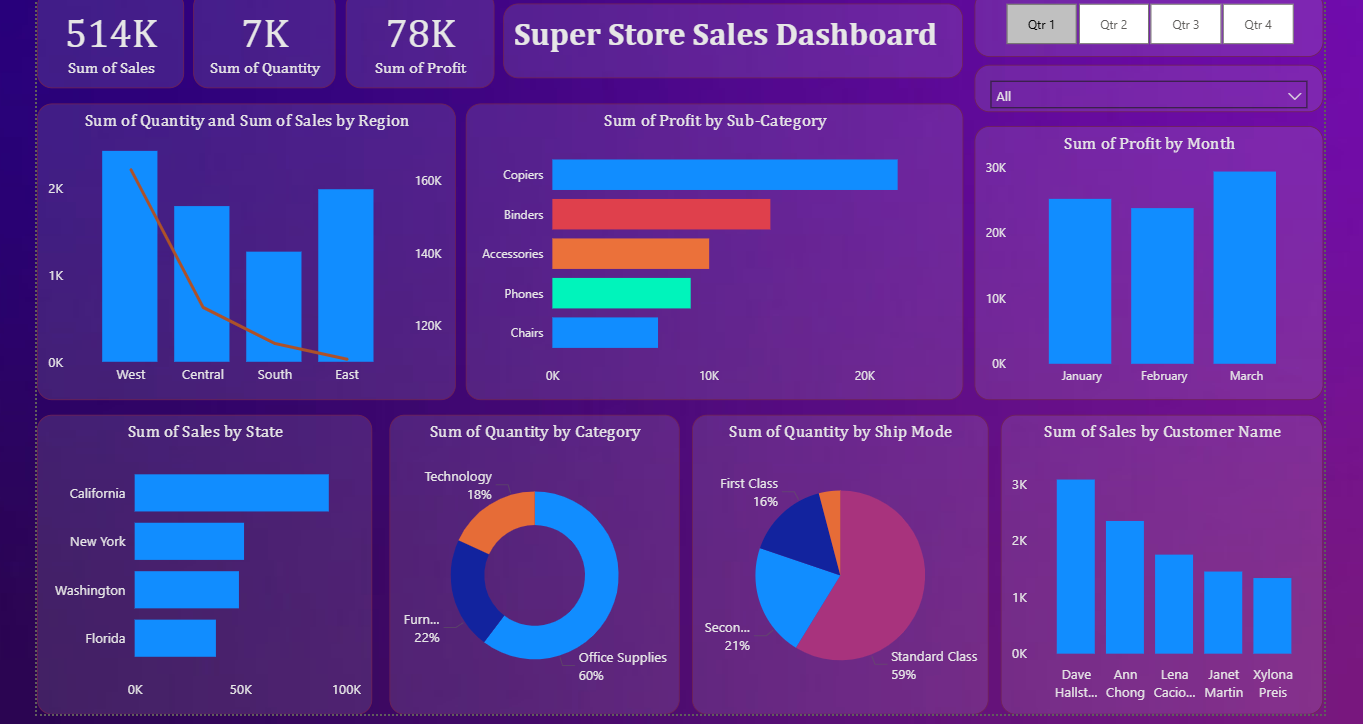

The page's visual inventory and layout, read from the dashboard file:
{"tool":"powerbi","page":{"name":"Page 2","canvas":[1280,720],"ordinal":1},"visuals":[{"type":"columnChart","fields":{"Category":["Sample - Superstore.Order Date.Variation.Date Hierarchy.Month"],"Y":["Sum(Sample - Superstore.Profit)"]},"box":[933,134.3,347.1,272.4],"z":0},{"type":"barChart","fields":{"Y":["Sum(Sample - Superstore.Profit)"],"Category":["Sample - Superstore.Sub-Category"]},"box":[426.7,112,495.1,294.8],"z":1000},{"type":"donutChart","fields":{"Y":["Sum(Sample - Superstore.Quantity)"],"Category":["Sample - Superstore.Category"]},"box":[350.8,421.7,288.6,298.6],"z":2000},{"type":"pieChart","fields":{"Y":["Sum(Sample - Superstore.Quantity)"],"Category":["Sample - Superstore.Ship Mode"]},"box":[651.8,421.7,294.8,298.6],"z":3000},{"type":"lineStackedColumnComboChart","fields":{"Category":["Sample - Superstore.Region"],"Y2":["Sum(Sample - Superstore.Sales)"],"Y":["Sum(Sample - Superstore.Quantity)"]},"box":[0,112,416.7,294.8],"z":4000},{"type":"card","fields":{"Values":["Sum(Sample - Superstore.Quantity)"]},"box":[155.5,0,141.8,97],"z":5000},{"type":"card","fields":{"Values":["Sum(Sample - Superstore.Profit)"]},"box":[307.3,0,148,97],"z":6000},{"type":"card","fields":{"Values":["Sum(Sample - Superstore.Sales)"]},"box":[0,0,146.8,97],"z":7000},{"type":"barChart","fields":{"Category":["Sample - Superstore.State"],"Y":["Sum(Sample - Superstore.Sales)"]},"box":[0,421.7,333.4,298.6],"z":8000},{"type":"columnChart","fields":{"Y":["Sum(Sample - Superstore.Sales)"],"Category":["Sample - Superstore.Customer Name"]},"box":[959.1,421.7,320.9,298.6],"z":9000},{"type":"textbox","box":[464,12.4,457.8,74.6],"z":10000},{"type":"slicer","fields":{"Values":["Sample - Superstore.Order Date.Variation.Date Hierarchy.Quarter"]},"box":[933,0,347.1,65.9],"z":11000},{"type":"slicer","fields":{"Values":["Sample - Superstore.State"]},"box":[933,73.4,347.1,47.3],"z":12000}]}

Visuals, with their boxes on the page's 1280x720 design canvas (x1, y1, x2, y2). These are canvas units, not pixel positions in the 1363x724 screenshot, which may show the page scaled, cropped or inside an application window:
columnChart - Sample - Superstore.Order Date.Variation.Date Hierarchy.Month x Sum(Sample - Superstore.Profit): [left=933, top=134, right=1280, bottom=407]
barChart - Sum(Sample - Superstore.Profit) x Sample - Superstore.Sub-Category: [left=427, top=112, right=922, bottom=407]
donutChart - Sum(Sample - Superstore.Quantity) x Sample - Superstore.Category: [left=351, top=422, right=639, bottom=720]
pieChart - Sum(Sample - Superstore.Quantity) x Sample - Superstore.Ship Mode: [left=652, top=422, right=947, bottom=720]
lineStackedColumnComboChart - Sample - Superstore.Region x Sum(Sample - Superstore.Sales): [left=0, top=112, right=417, bottom=407]
card - Sum(Sample - Superstore.Quantity): [left=156, top=0, right=297, bottom=97]
card - Sum(Sample - Superstore.Profit): [left=307, top=0, right=455, bottom=97]
card - Sum(Sample - Superstore.Sales): [left=0, top=0, right=147, bottom=97]
barChart - Sample - Superstore.State x Sum(Sample - Superstore.Sales): [left=0, top=422, right=333, bottom=720]
columnChart - Sum(Sample - Superstore.Sales) x Sample - Superstore.Customer Name: [left=959, top=422, right=1280, bottom=720]
textbox: [left=464, top=12, right=922, bottom=87]
slicer - Sample - Superstore.Order Date.Variation.Date Hierarchy.Quarter: [left=933, top=0, right=1280, bottom=66]
slicer - Sample - Superstore.State: [left=933, top=73, right=1280, bottom=121]
